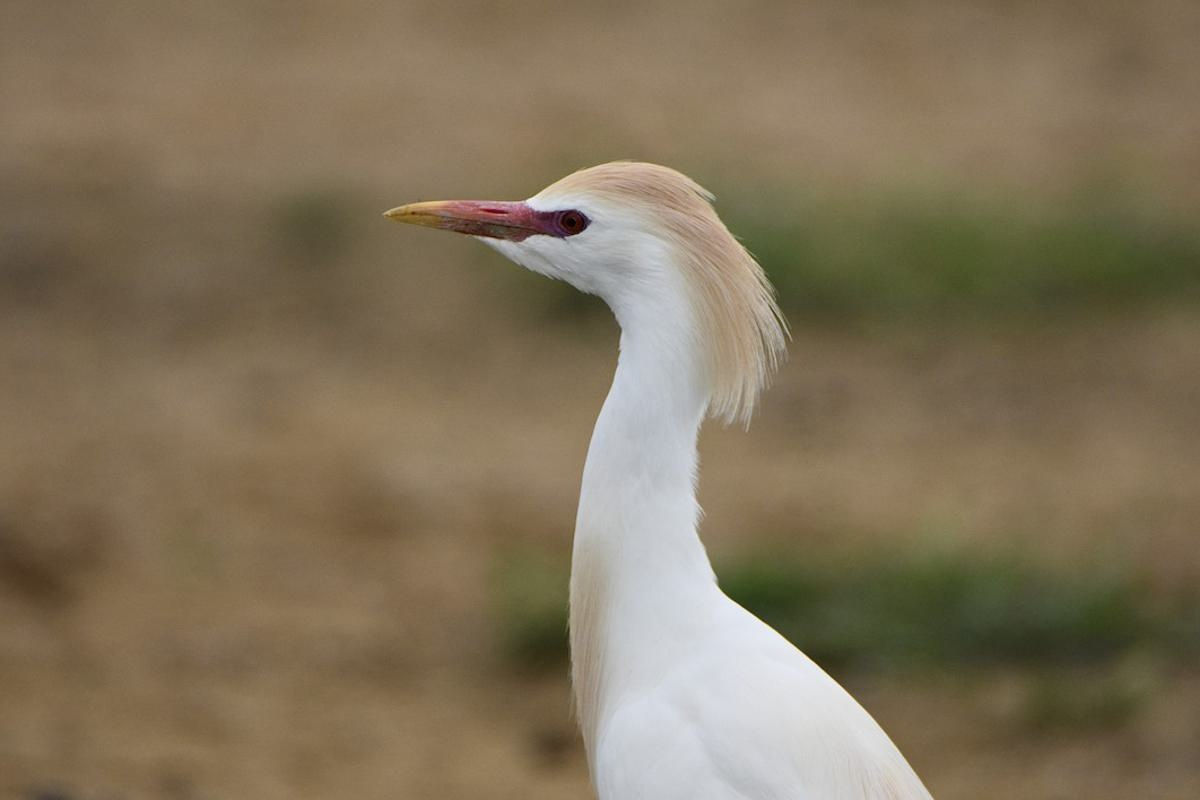egret: (371, 145, 1031, 800)
